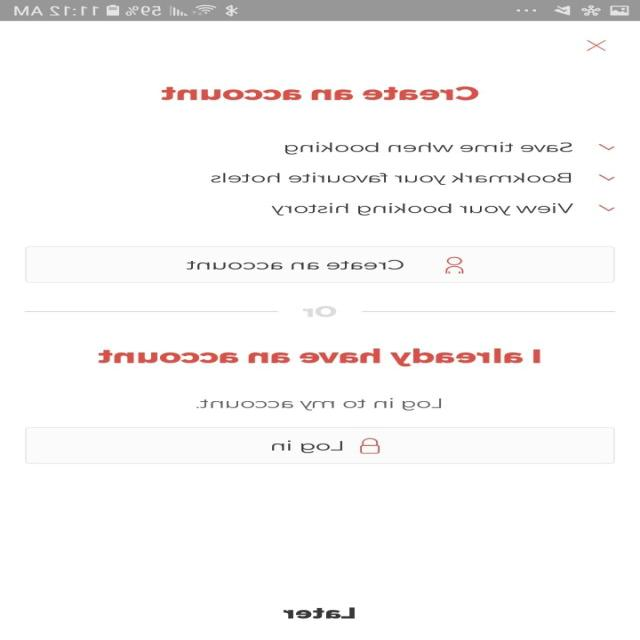Icon: (586, 39, 608, 52), (598, 143, 615, 151), (598, 174, 615, 181), (598, 205, 614, 211)
Text: (98, 348, 540, 367), (161, 86, 479, 101), (212, 172, 572, 185), (271, 202, 574, 216), (286, 141, 574, 154), (196, 396, 442, 411), (284, 606, 356, 619), (303, 305, 337, 318)
TextButton: (25, 426, 616, 464), (25, 245, 615, 283)
